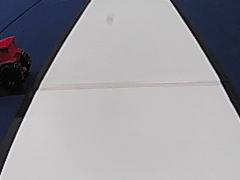Tracktor: (0, 34, 34, 94)
